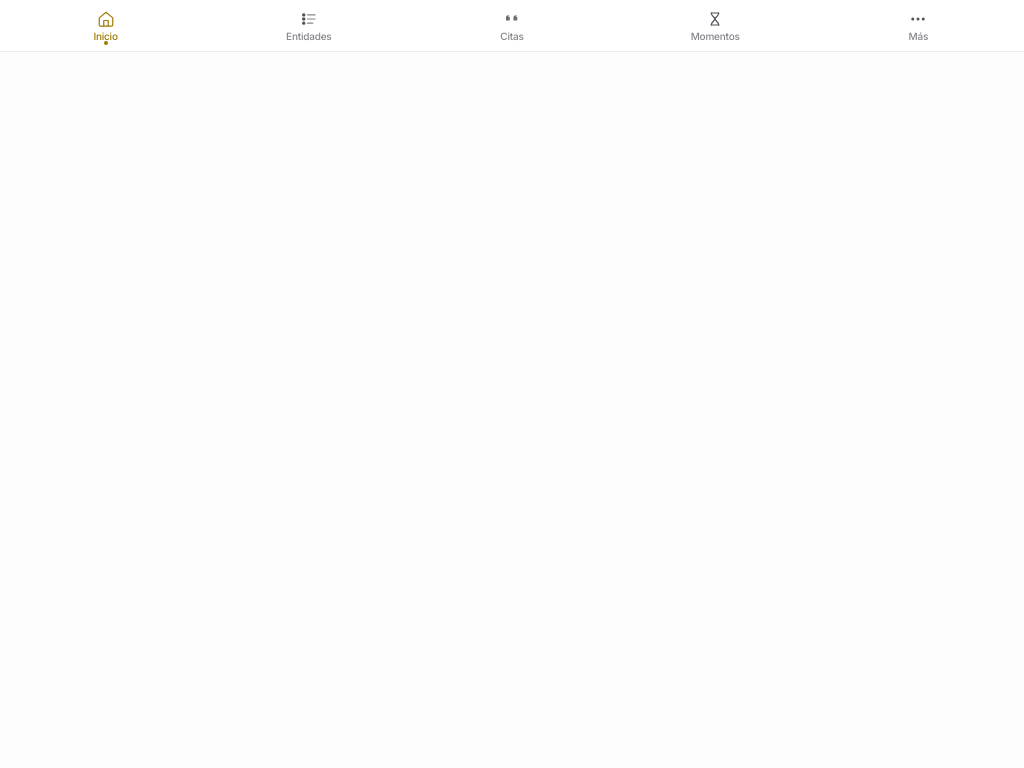
Test: <MobileBottomNav /> › "Más" abre la hoja con TODAS las vistas no-primarias
Expected: the button "Escuchas" is not shown
Click the button with aria-label "Más vistas".
click(918, 26)  # box [817,6,1020,46]
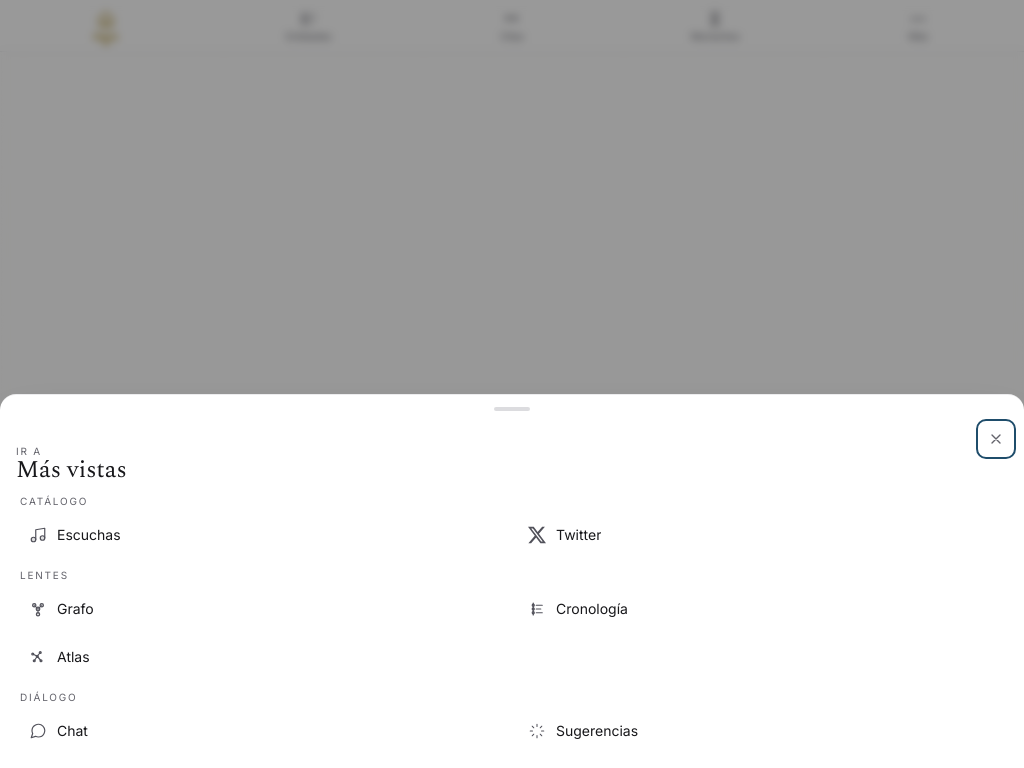
Expected: the dialog "Más vistas" is shown
Expected: the button "Escuchas" is shown, [16,514,509,556]
Expected: the button "Twitter" is shown, [515,514,1008,556]
